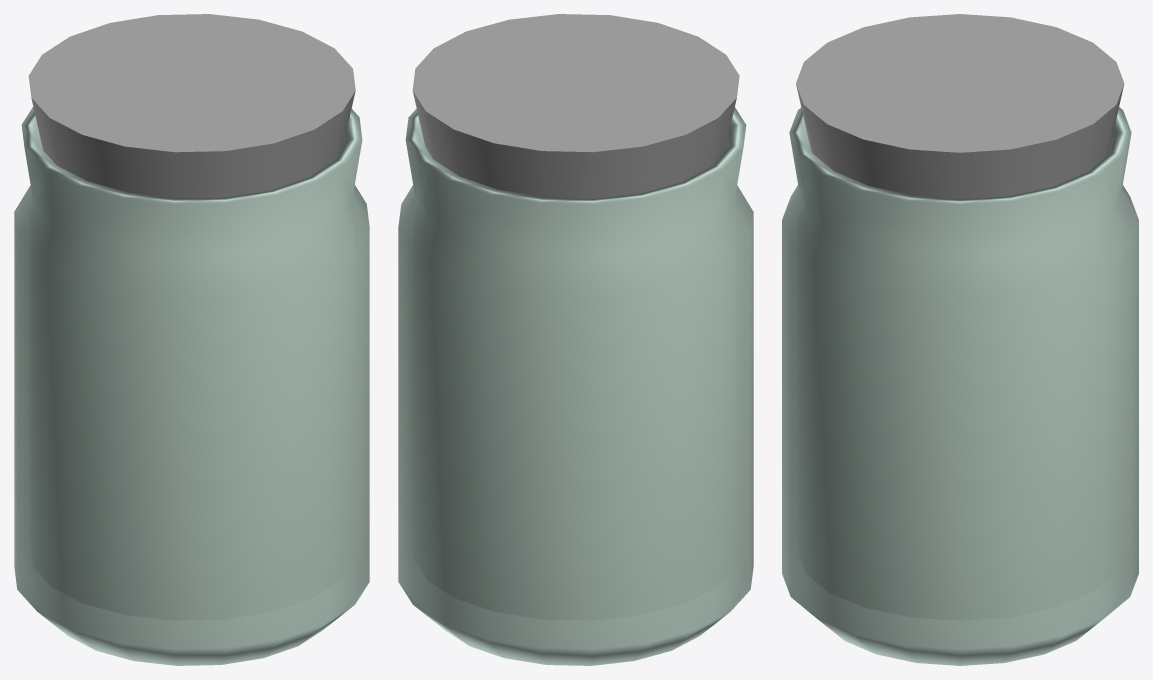
Rendered from Jar_Closed.fbx.
3 renders of one model, left to right at view 1: azimuth 30°, elevation 25°; view 2: azimuth 150°, elevation 25°; view 3: azimuth 270°, elevation 25°, orthographic.
Parts seen in each view (by area): view 1: pCylinder45; view 2: pCylinder45; view 3: pCylinder45.
Part boxes in pixels (x1,y1,x2,y2): pCylinder45: (14, 14, 369, 665); pCylinder45: (398, 14, 753, 665); pCylinder45: (782, 14, 1138, 665).
Bounding box in the file's own units: 2.57 × 4.15 × 2.57.
